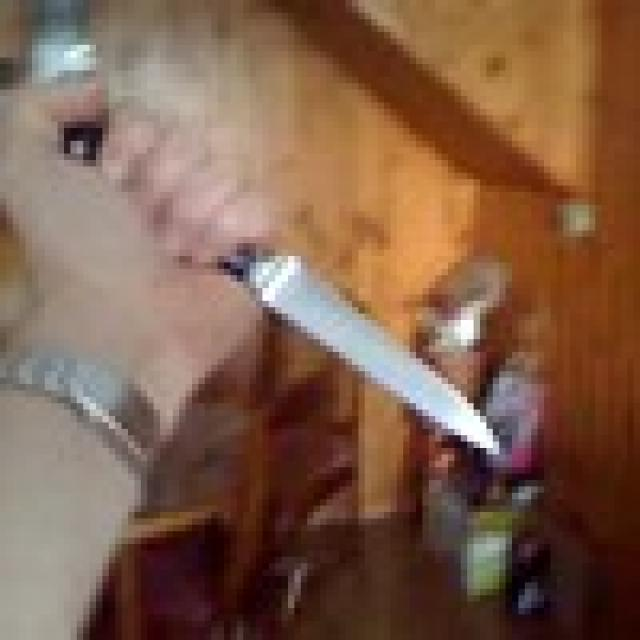weapon: (69, 108, 498, 446)
